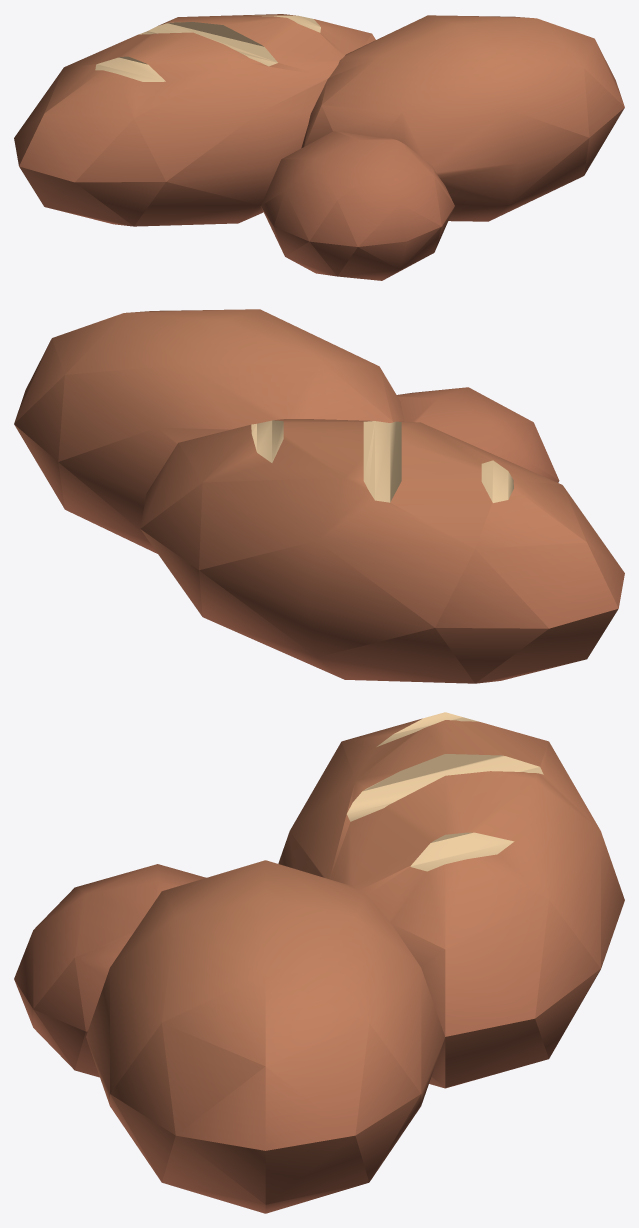
Rendered from bread.glb.
3 views of the same model, one above another, from view 1: azimuth 30°, elevation 25°; view 2: azimuth 150°, elevation 25°; view 3: azimuth 270°, elevation 25° (orthographic). The views are drawn at different scales.
Visible parts, largest first — view 1: bread; view 2: bread; view 3: bread.
Part boxes in pixels (<box>): bread: <box>14,14,624,280</box>; bread: <box>14,309,624,683</box>; bread: <box>14,712,624,1213</box>.
Size of the model in its own units: 1.02 by 0.34 by 0.68.
1 material, 1 textured.
